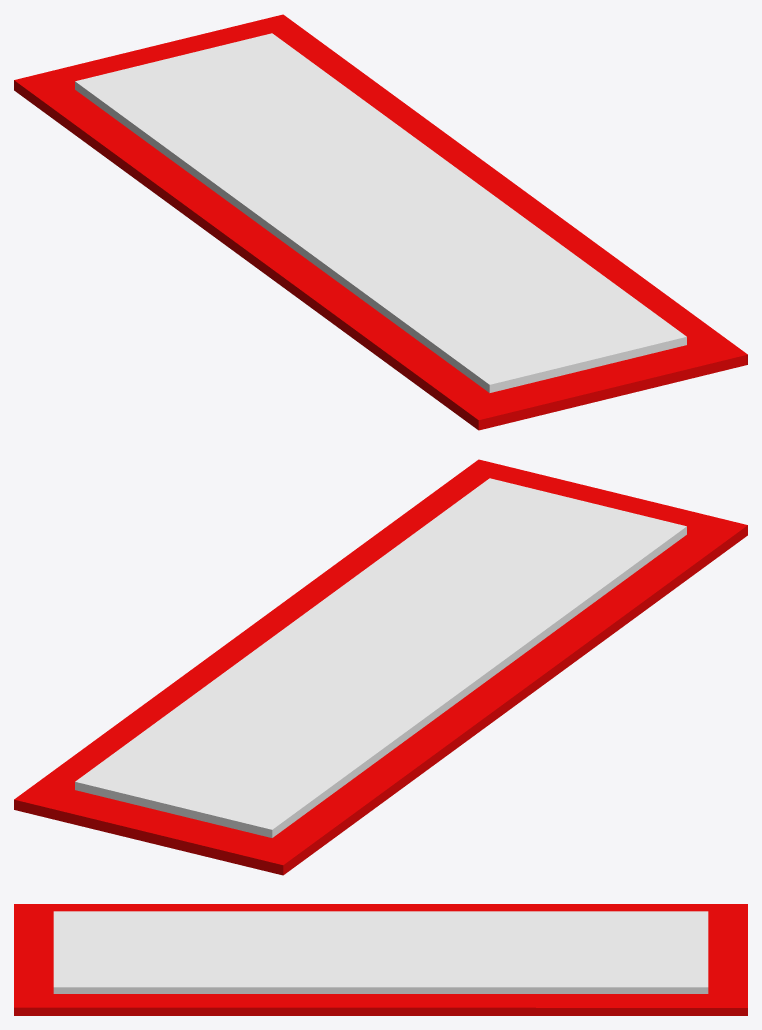
File: TimeTile.fbx
The picture shows the model from 3 angles, top to bottom: view 1: azimuth 30°, elevation 25°; view 2: azimuth 150°, elevation 25°; view 3: azimuth 270°, elevation 25°; orthographic projection. The views are drawn at different scales.
Visible parts, largest first — view 1: Cube, Cube.001; view 2: Cube, Cube.001; view 3: Cube, Cube.001.
Part boxes in pixels (bbox=[...]): Cube: bbox=[75, 33, 686, 392]; Cube.001: bbox=[14, 14, 747, 430]; Cube: bbox=[75, 478, 686, 837]; Cube.001: bbox=[14, 459, 747, 875]; Cube: bbox=[53, 911, 708, 993]; Cube.001: bbox=[14, 904, 747, 1015].
Bounding box in the file's own units: 131 × 9.3 × 393.
